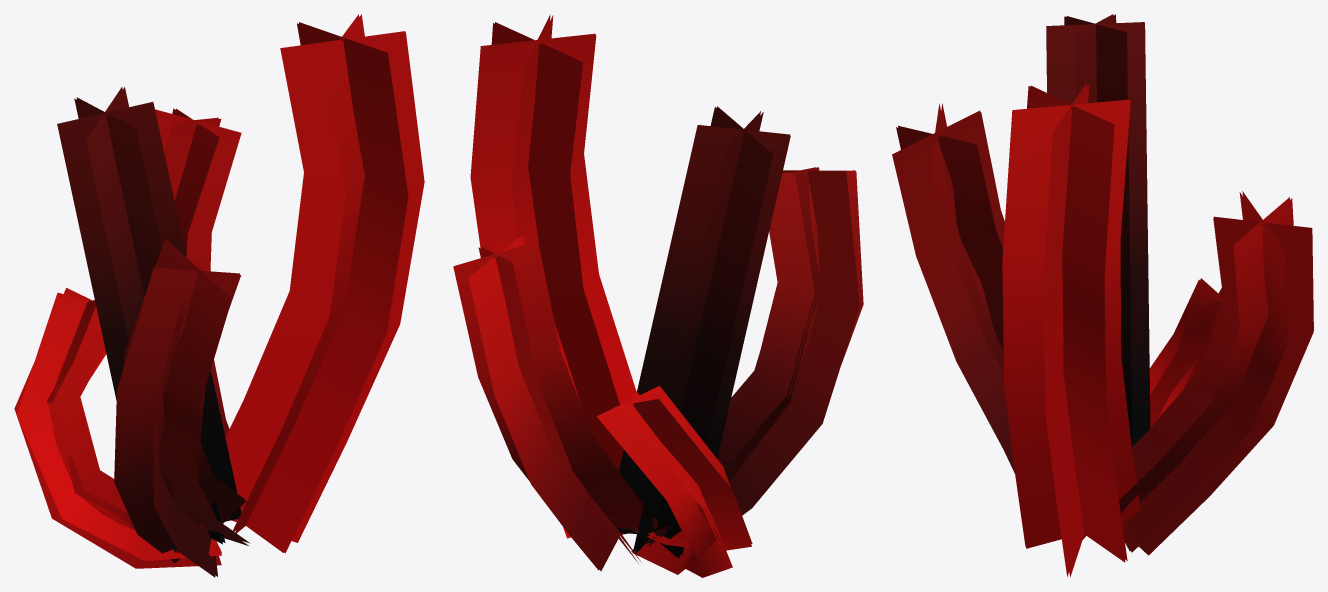
File: TinyW12_AFS_high.FBX
3 renders of one model, left to right at view 1: azimuth 30°, elevation 25°; view 2: azimuth 150°, elevation 25°; view 3: azimuth 270°, elevation 25°, orthographic. The views are drawn at different scales.
Visible parts, largest first — view 1: TinyW12_AFS_high; view 2: TinyW12_AFS_high; view 3: TinyW12_AFS_high.
Part boxes in pixels (<box>): TinyW12_AFS_high: <box>14,14,424,577</box>; TinyW12_AFS_high: <box>453,14,863,577</box>; TinyW12_AFS_high: <box>892,14,1313,577</box>.
Bounding box in the file's own units: 0.536 × 0.7406 × 0.5601.
